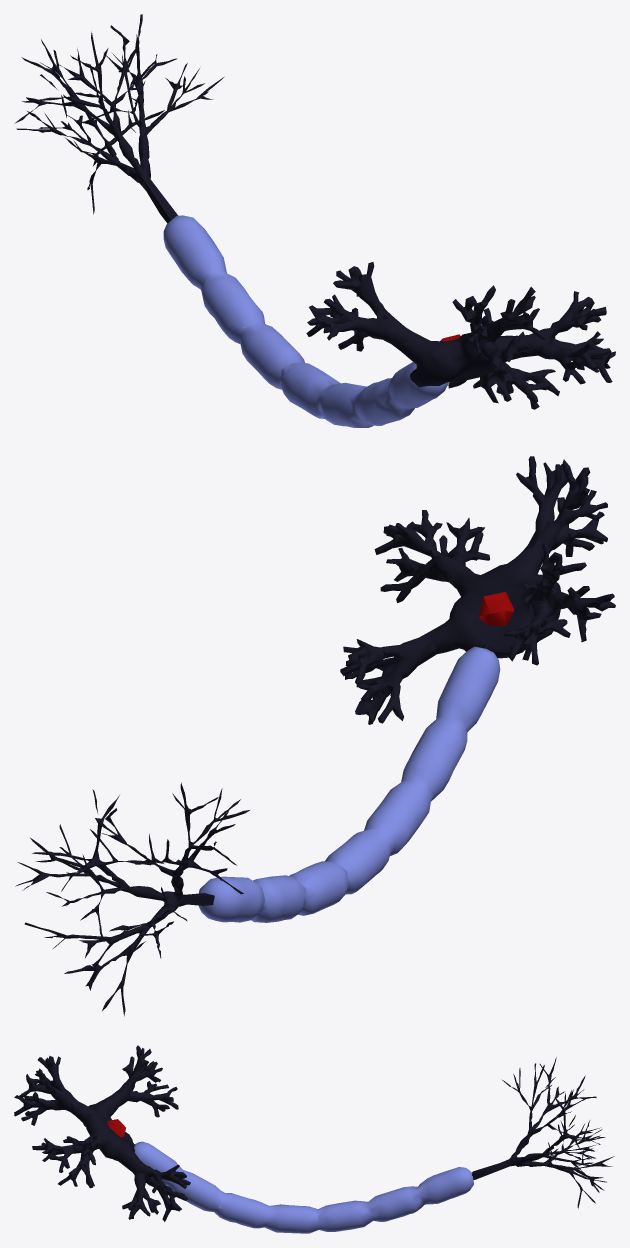
The model's file is neuron_v2.fbx.
3 views of the same model, one above another, from view 1: azimuth 30°, elevation 25°; view 2: azimuth 150°, elevation 25°; view 3: azimuth 270°, elevation 25° (orthographic). The views are drawn at different scales.
Visible parts, largest first — view 1: output0; view 2: output0; view 3: output0.
Boxes of the visible parts, bbox=[...] form: output0: bbox=[14, 14, 615, 427]; output0: bbox=[15, 456, 615, 1016]; output0: bbox=[14, 1045, 614, 1233].
Bounding box in the file's own units: 6.59 × 6.55 × 20.66.
